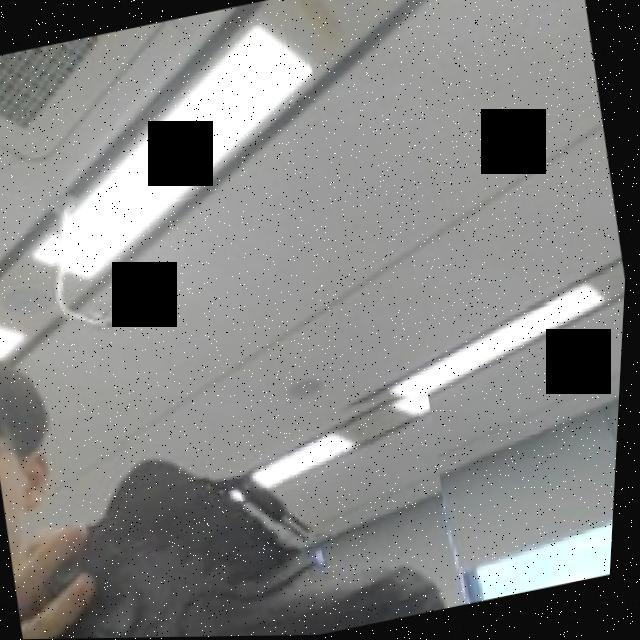shoe: (0, 377, 470, 640)
